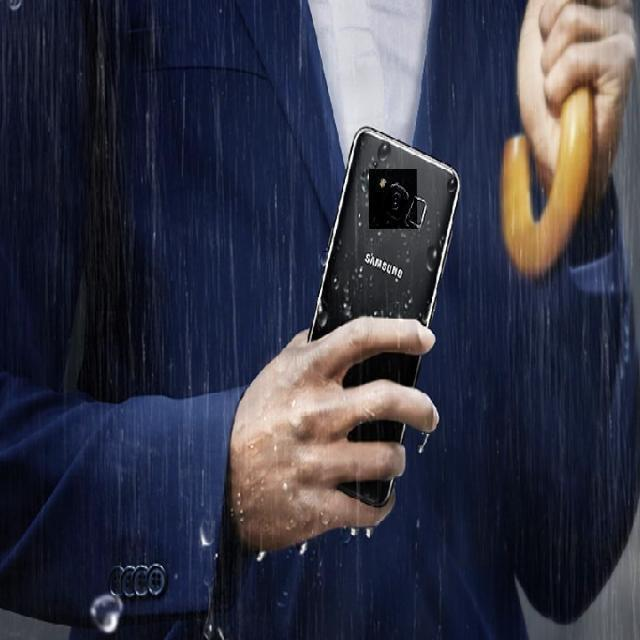Mobile: (299, 124, 459, 505)
